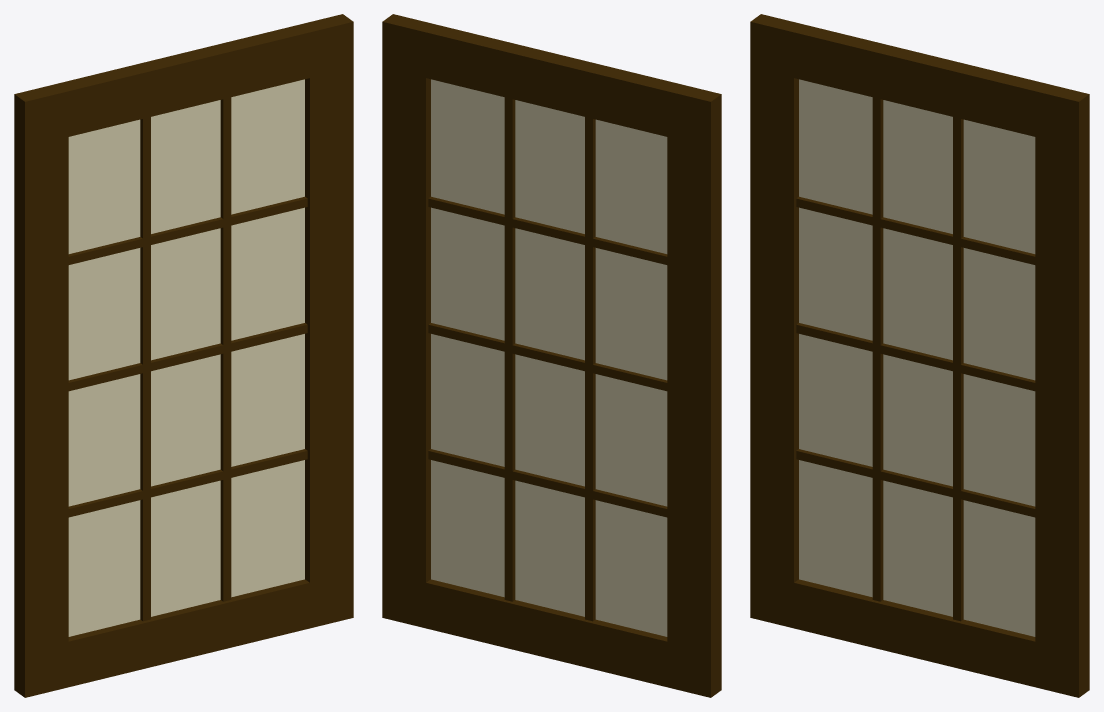
Rendered from door.fbx.
3 views of the same model, side by side, from view 1: azimuth 30°, elevation 25°; view 2: azimuth 150°, elevation 25°; view 3: azimuth 330°, elevation 25° (orthographic).
Visible parts, largest first — view 1: polySurface2; view 2: polySurface2; view 3: polySurface2.
Boxes of the visible parts, x1,y1,x2,y2 form: polySurface2: [14, 14, 353, 697]; polySurface2: [382, 14, 721, 697]; polySurface2: [750, 14, 1089, 697].
Size of the model in its own units: 2.04 by 3.54 by 0.1142.
